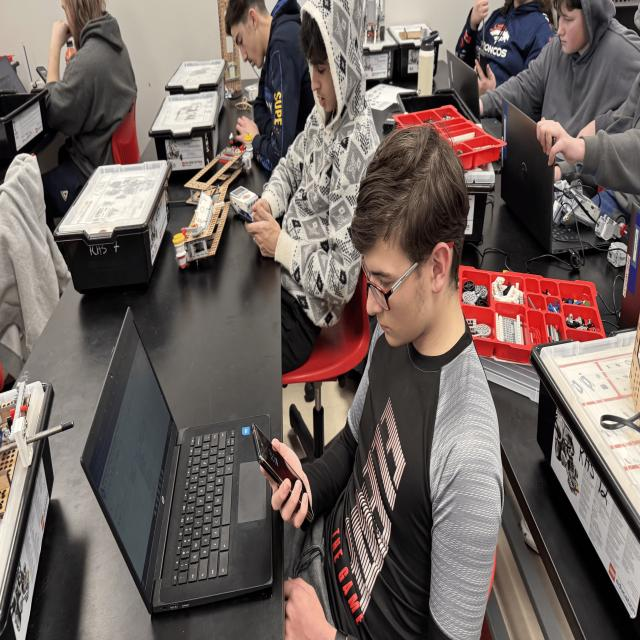pen: (250, 422, 314, 524), (235, 205, 265, 229), (476, 45, 488, 84), (36, 66, 53, 87)
